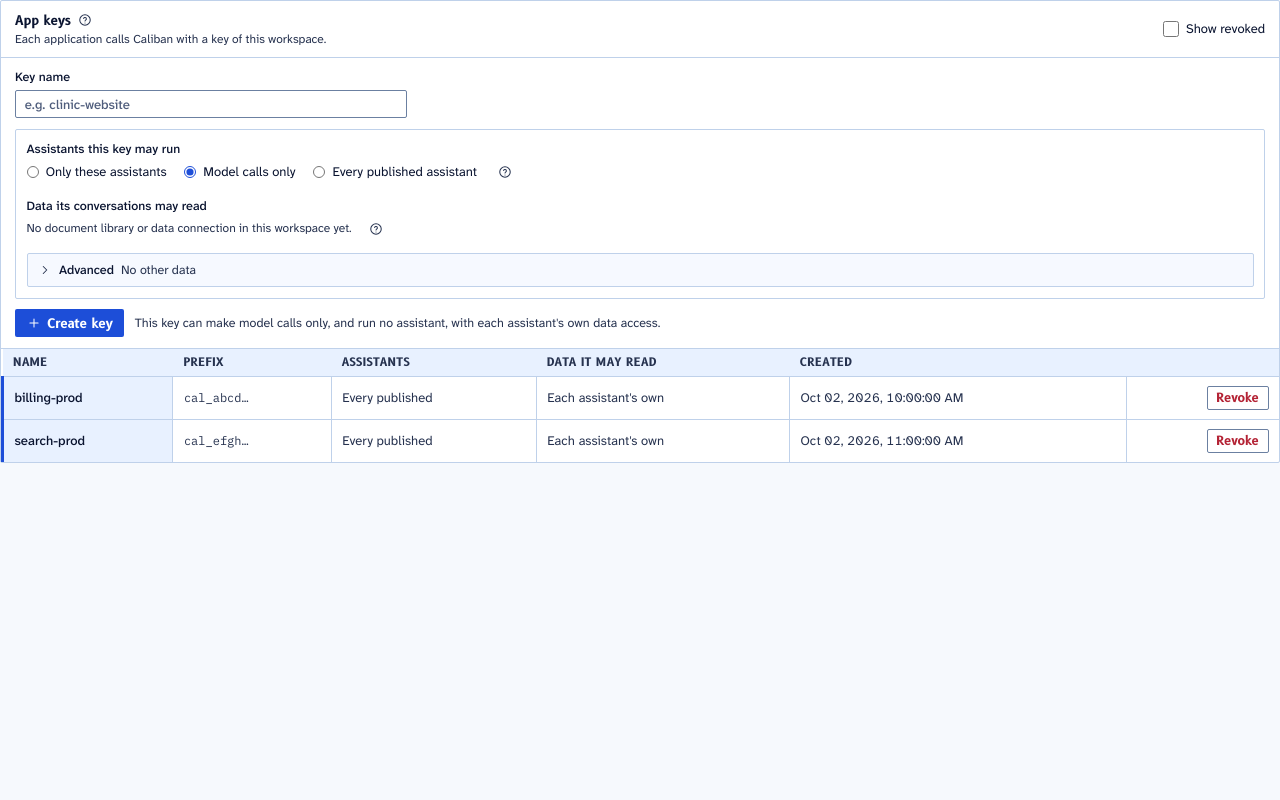
Test case: ApiKeysPanel › revokes a key through a confirm dialog that explains when it stops working
Step 1. Click the button with aria-label "Revoke billing-prod" → (1238, 398), box [1206,386,1268,410]
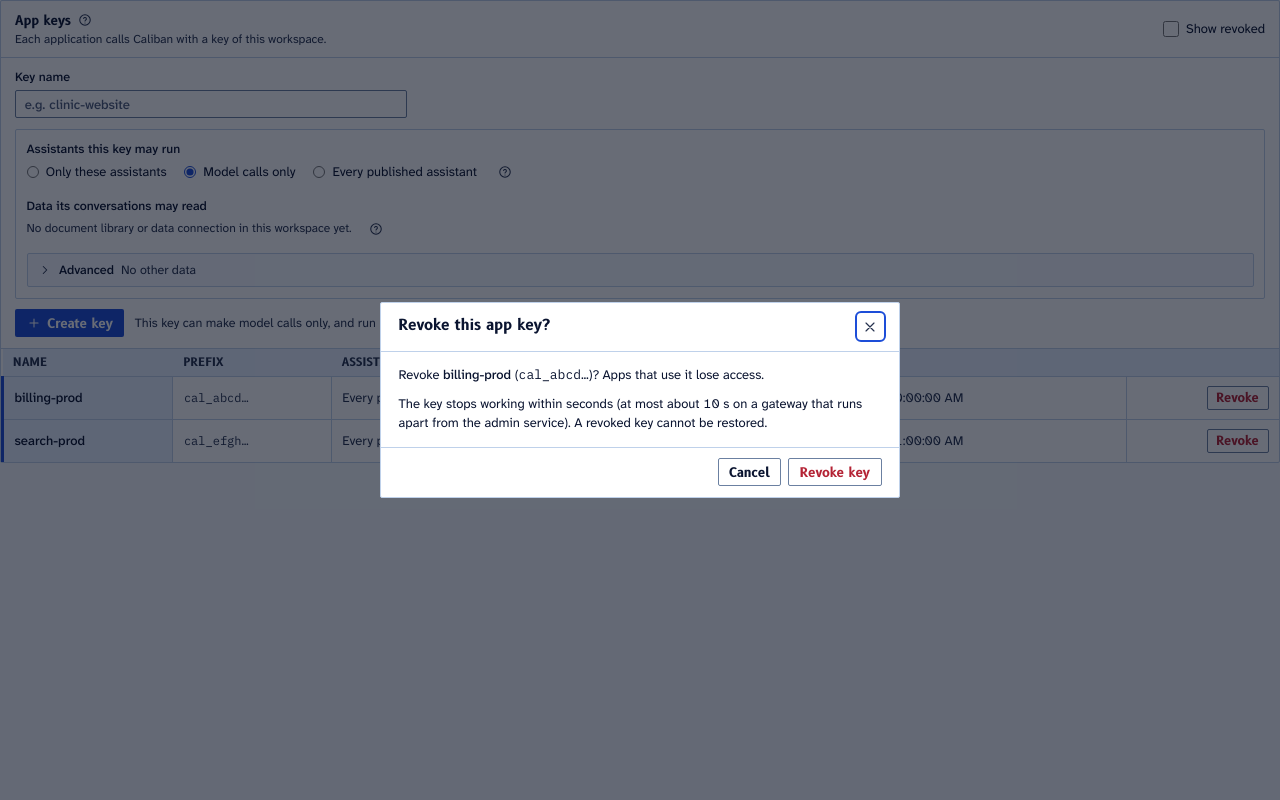
expect the dialog "Revoke this app key?" shows "billing-prod": met, box [443,366,511,383]
expect the dialog "Revoke this app key?" shows "stops working within seconds": met, box [398,395,862,431]
expect the dialog "Revoke this app key?" shows "at most about 10 s": met, box [398,395,862,431]
Step 2. Click the button "Revoke key" → (835, 472), box [788,458,882,486]
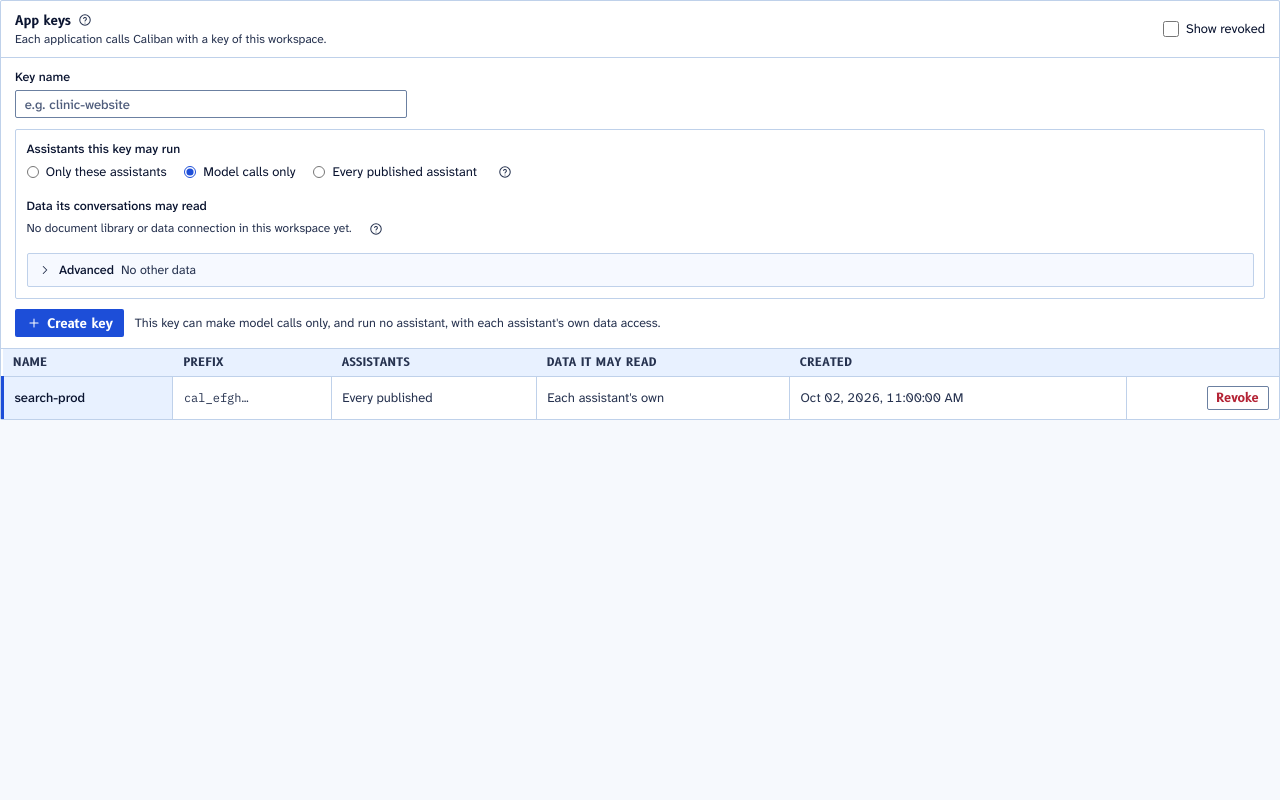
expect the text "search-prod" is shown: met, box [2,377,173,419]
expect the text "billing-prod" is gone: met
expect the dialog is gone: met
